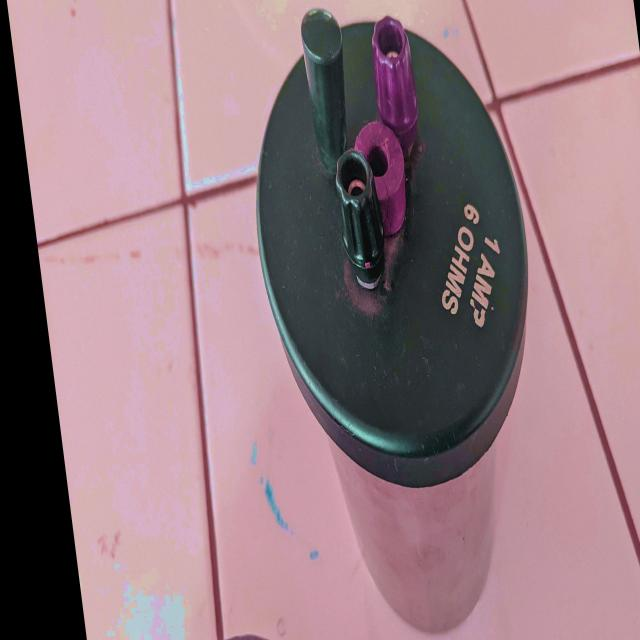Joule-s Calorimeter: (226, 0, 590, 640)
